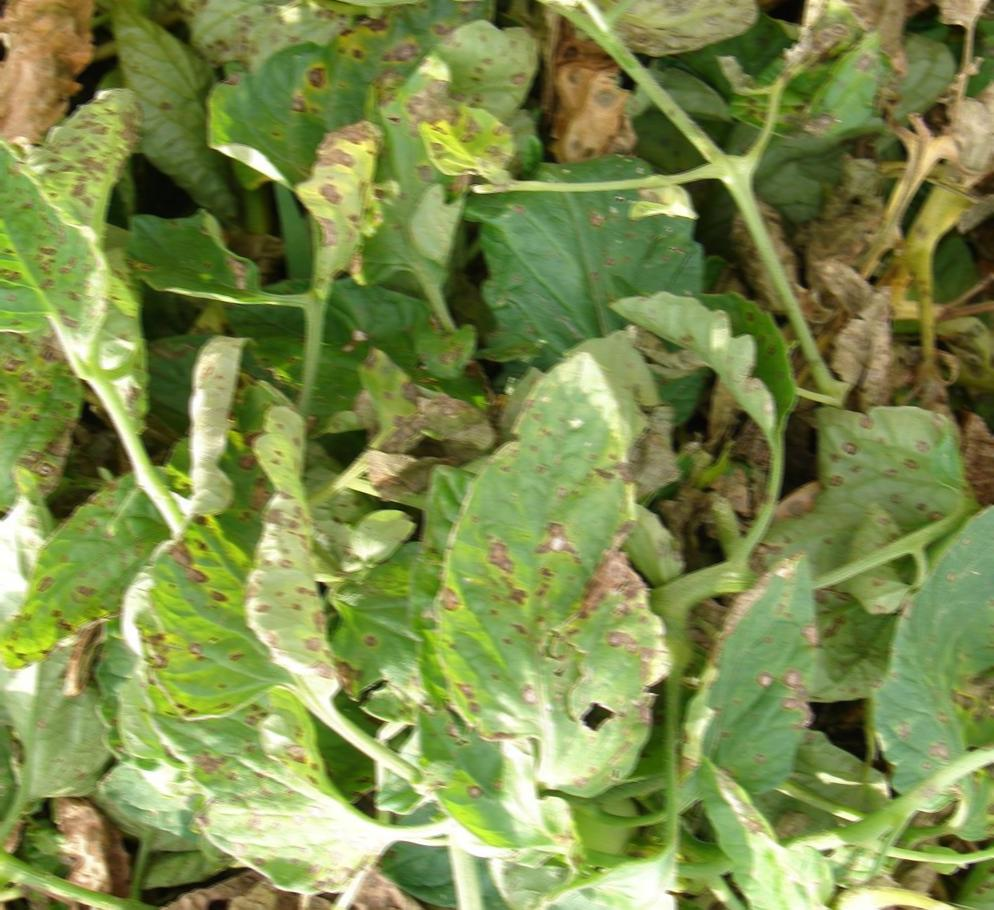Tomato Septoria leaf spot: (437, 336, 681, 806), (97, 623, 394, 910), (149, 394, 346, 727), (670, 537, 846, 816), (0, 437, 191, 674), (202, 28, 377, 270), (0, 82, 116, 353)
